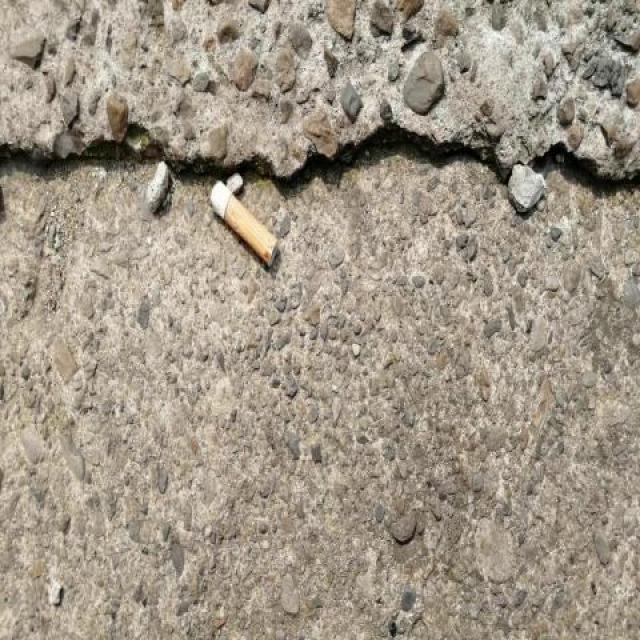non-organic waste: (203, 174, 285, 273)
